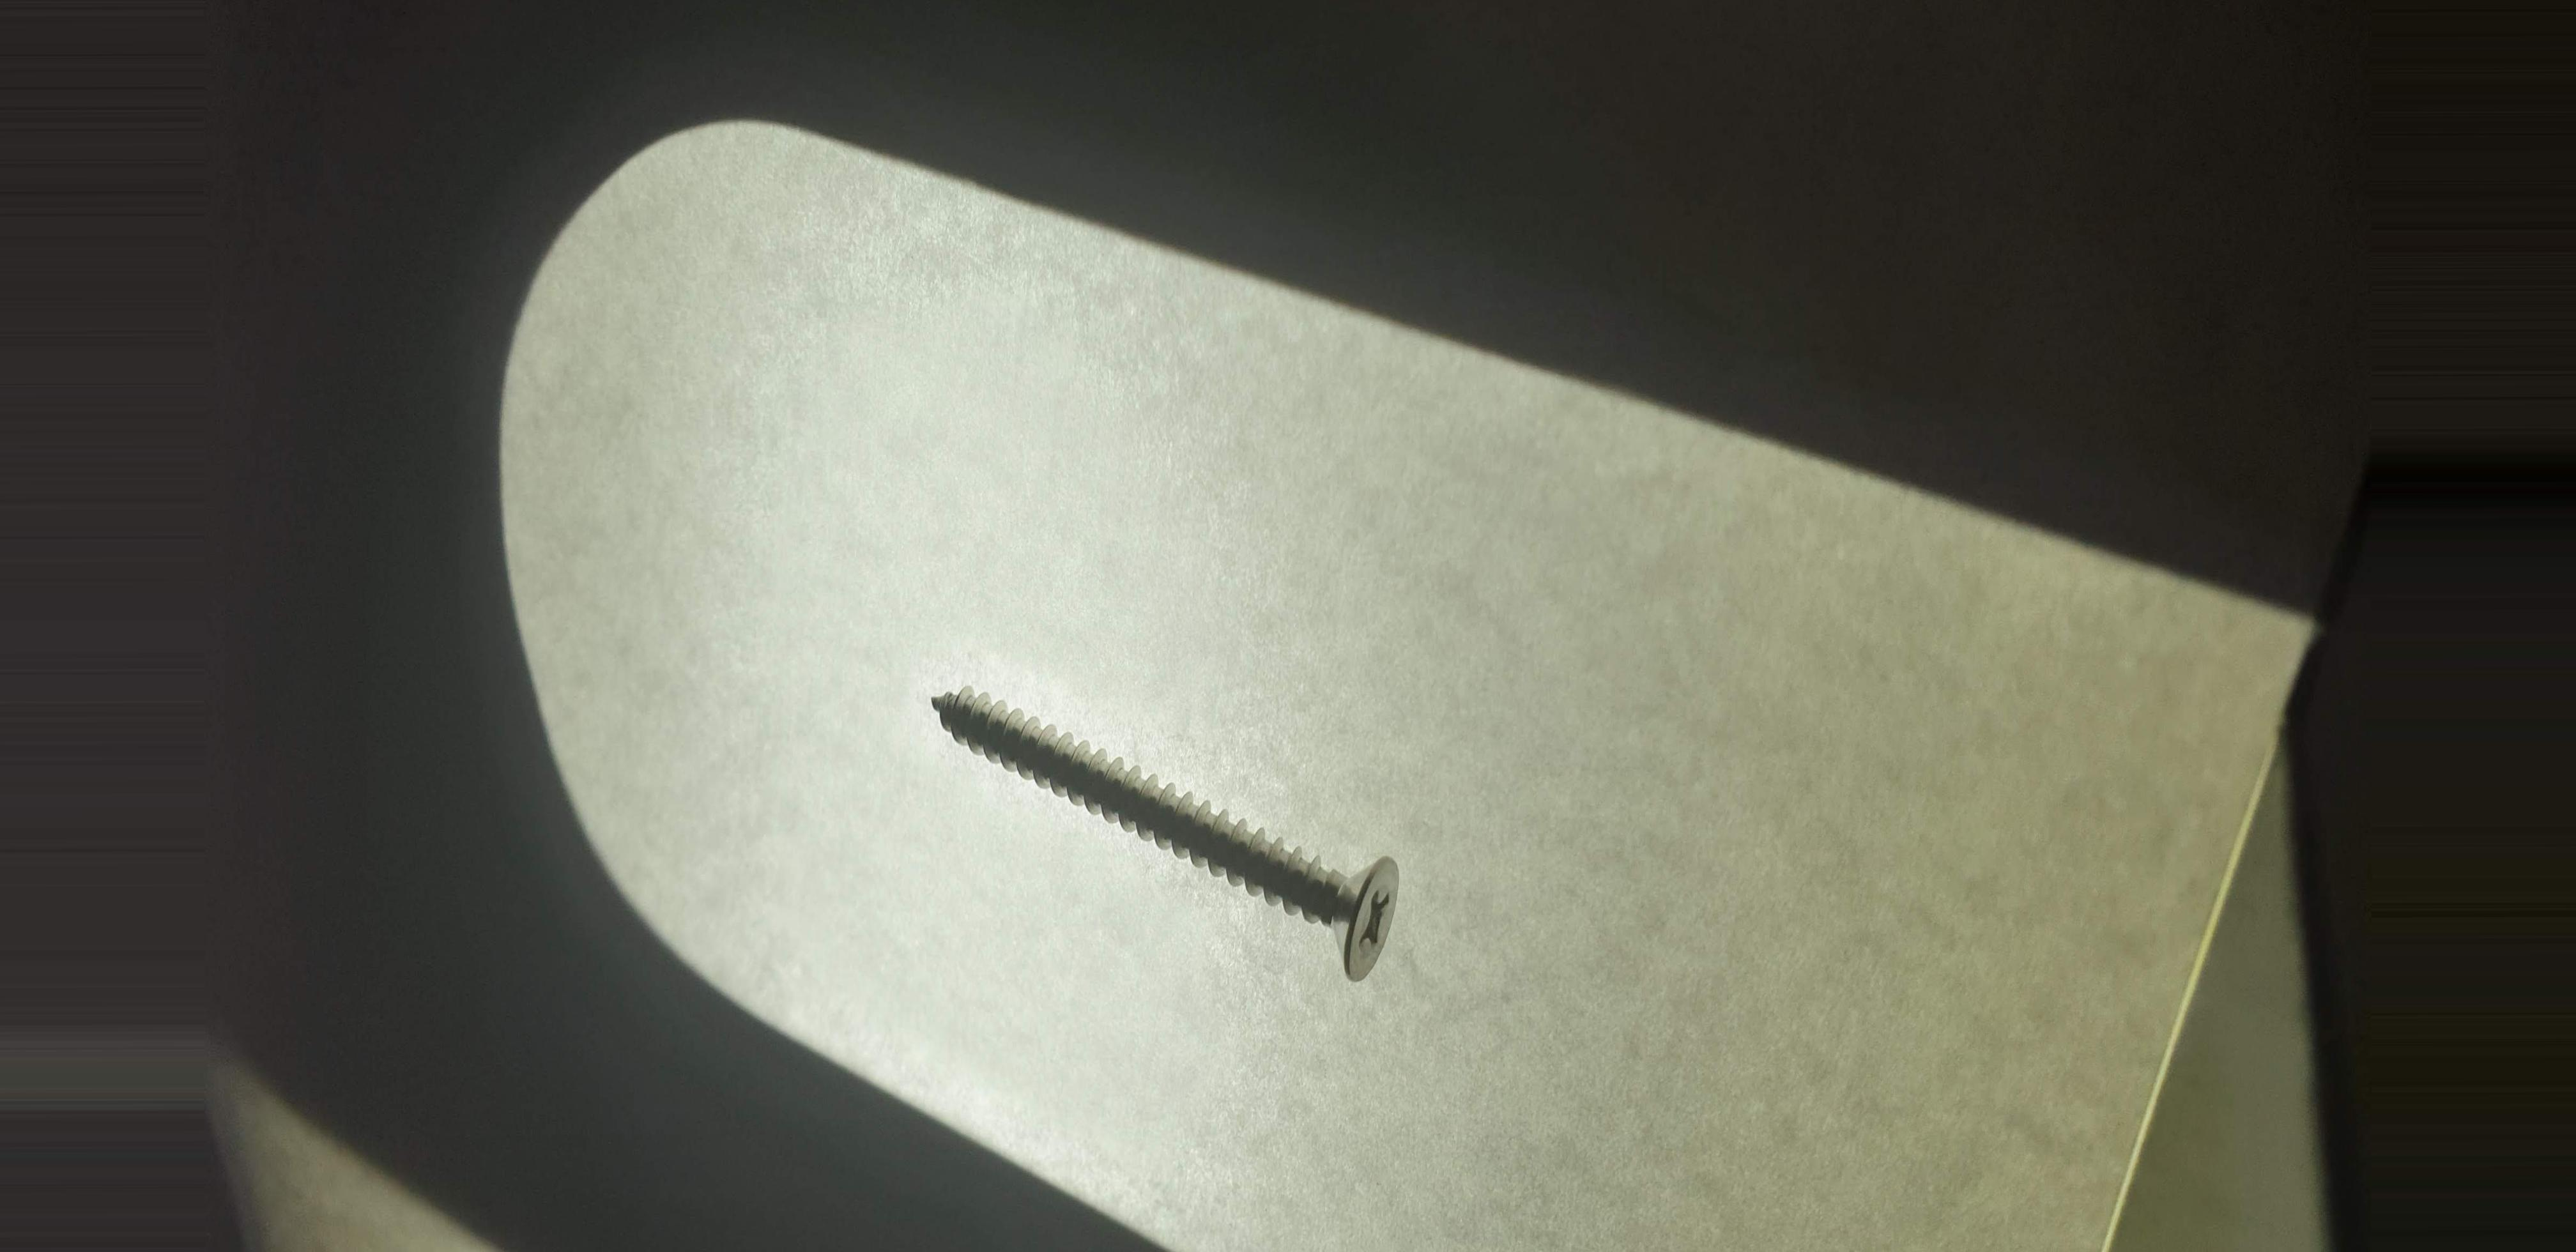S001: (897, 639, 1447, 1007)
